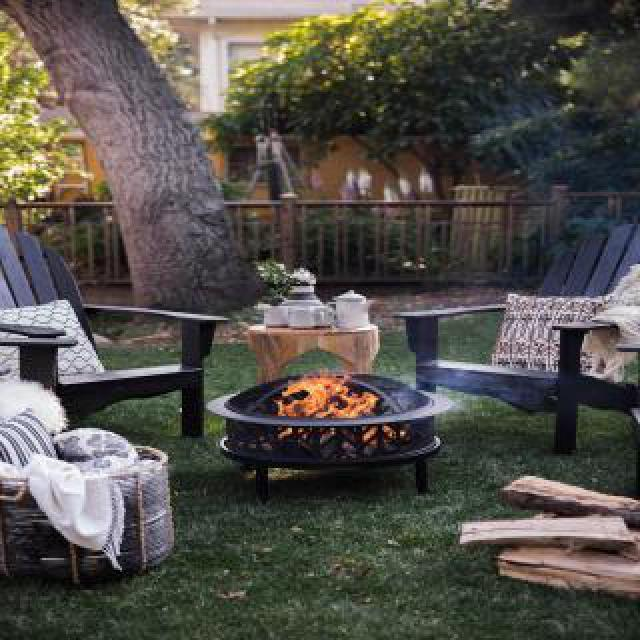zfire: (268, 374, 402, 452)
